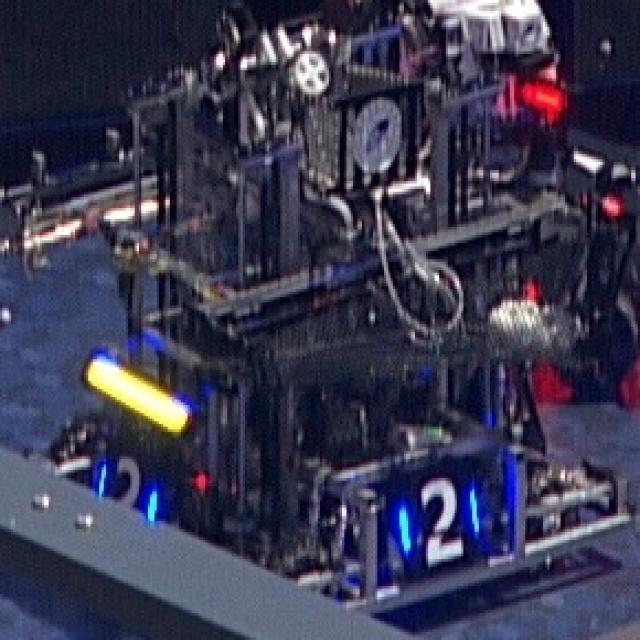B2: (391, 473, 481, 567), (90, 448, 162, 524)
